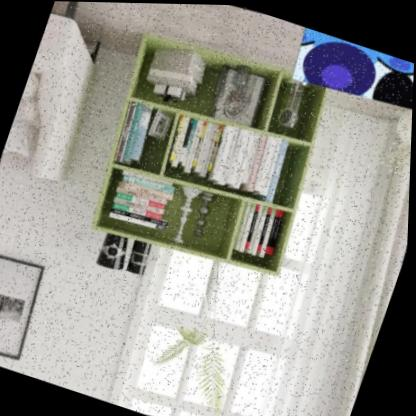Shelf: (73, 11, 354, 295)
